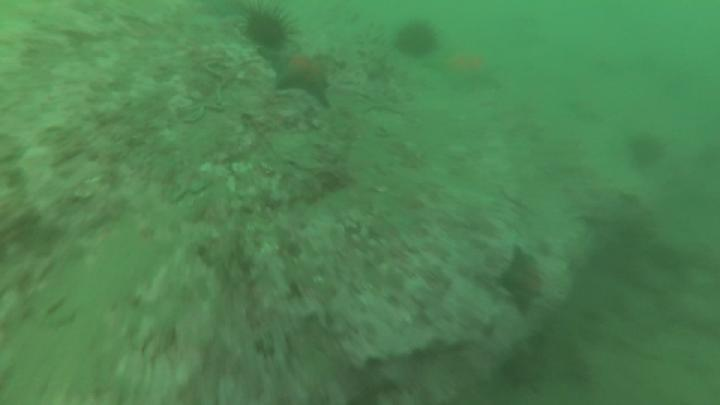echinus: (238, 1, 301, 56), (396, 19, 439, 63), (626, 132, 671, 172)
starfish: (257, 46, 337, 108), (425, 51, 511, 94), (500, 244, 547, 319)
